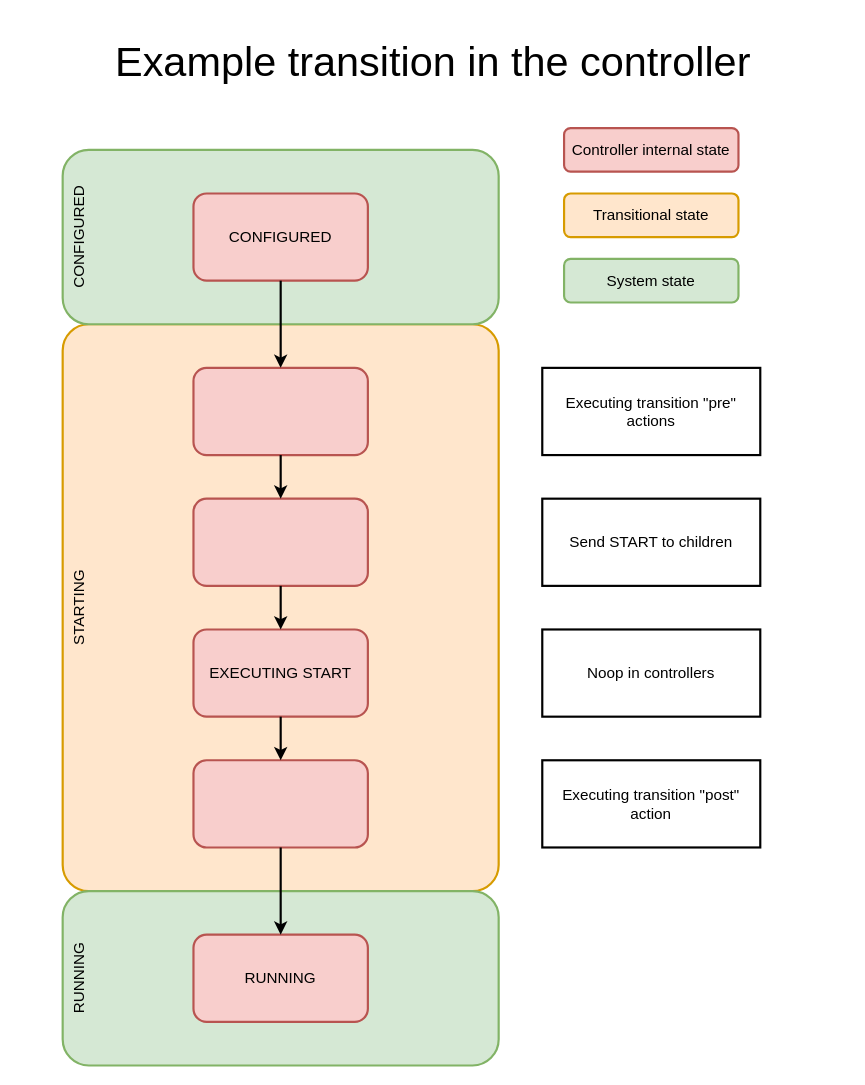
Some shapes in this 865 by 1085 pixel diagram are drawn without their labels. Each missing label, with the centre of its shape:
"ENTER_START" goes at (x=280, y=411).
"EXIT_START" goes at (x=280, y=803).
"PROPAGATING START" goes at (x=280, y=541).
